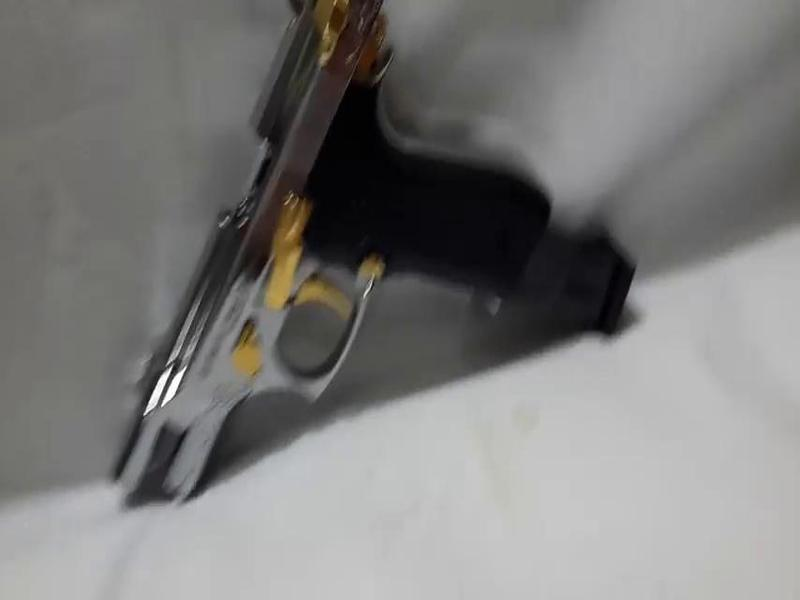Pistola: (91, 1, 541, 533)
